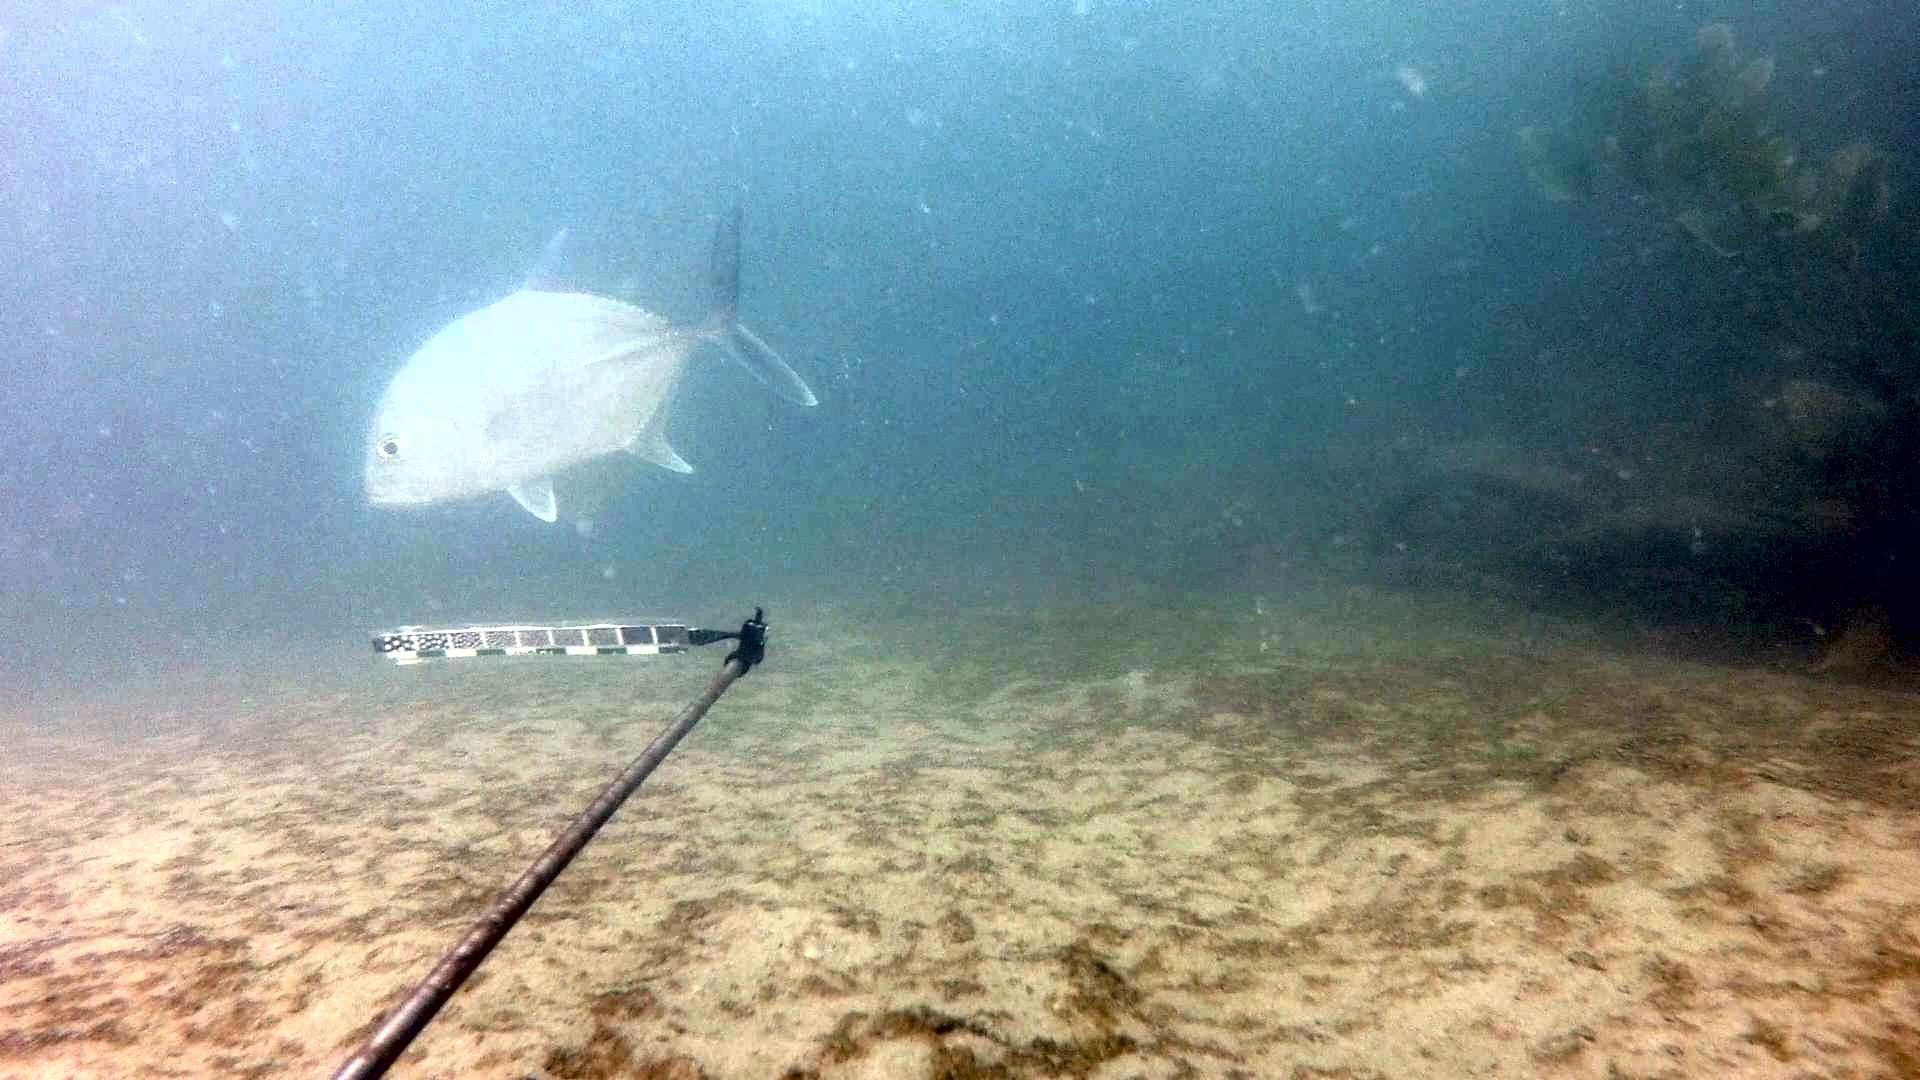caranx: (351, 198, 870, 534)
